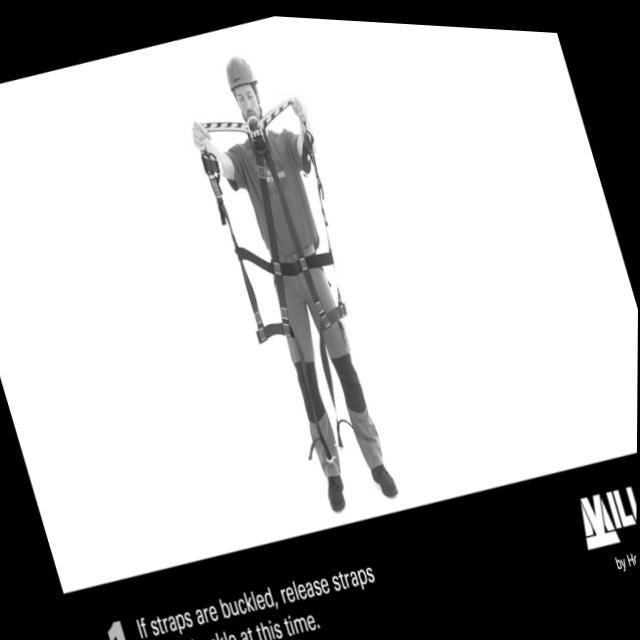belt: (180, 78, 408, 485)
